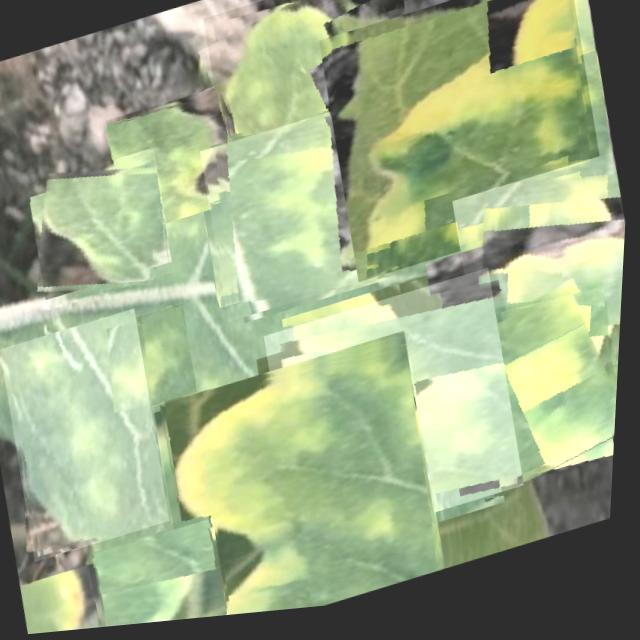leaf_spot: (149, 334, 459, 627), (309, 0, 620, 292), (258, 273, 538, 563), (194, 0, 438, 220), (194, 101, 415, 328), (0, 307, 183, 565), (420, 286, 626, 515), (446, 162, 631, 416), (24, 147, 182, 313), (102, 86, 249, 239), (89, 519, 243, 631), (93, 305, 204, 422), (24, 562, 122, 636)
